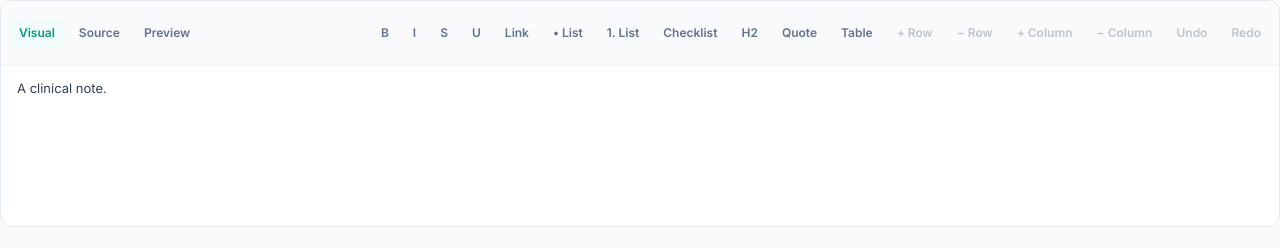
Test case: DocumentTextEditor › keeps an inserted table editable and serializes row operations
The width and height of the screenshot is (1280, 248).
Click the button with aria-label "Insert 2 by 2 table".
click(857, 33)  # box left=831, top=13, right=883, bottom=53
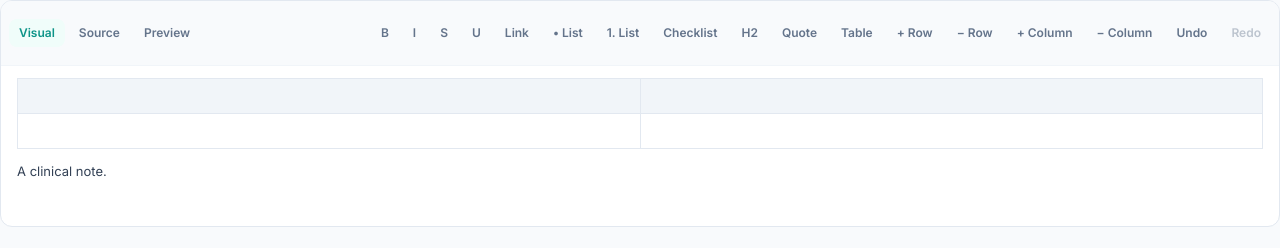
Expected: the button with aria-label "Add row below" is enabled
Click the button with aria-label "Add row below".
click(915, 33)  # box left=887, top=13, right=943, bottom=53
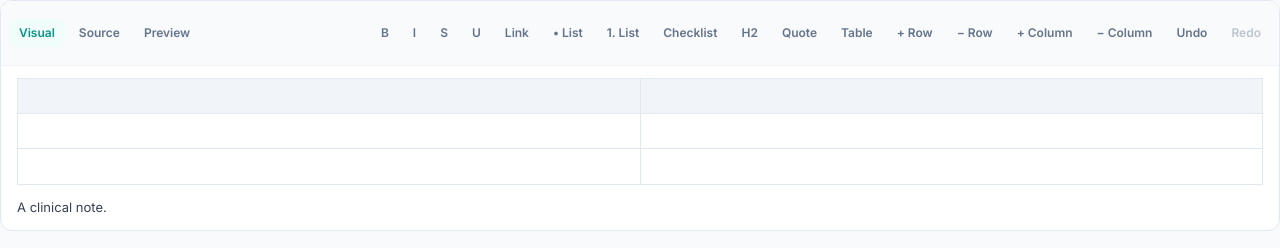
Click the button "source".
click(99, 33)  # box left=69, top=19, right=130, bottom=47
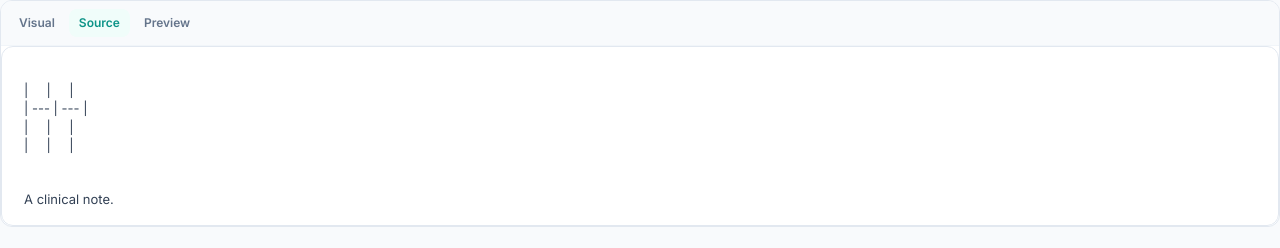
Expected: the field with test id "source-text-editor" shows "A clinical note.", left=24, top=82, right=114, bottom=207
